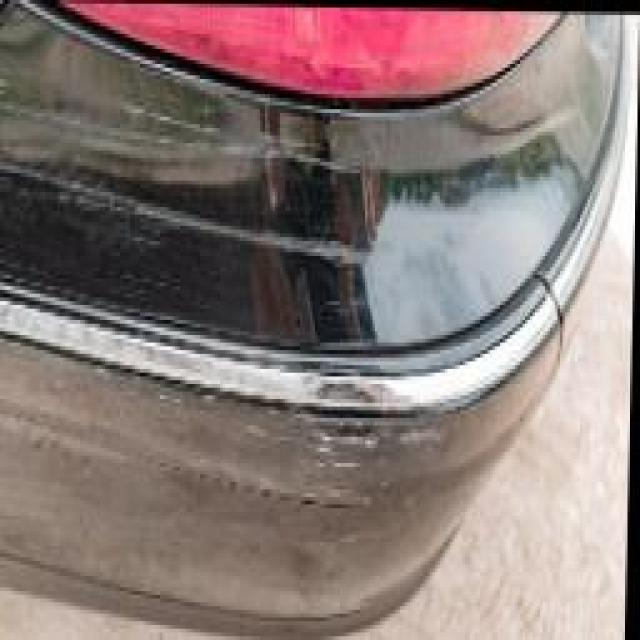Bumper: (0, 68, 509, 570)
